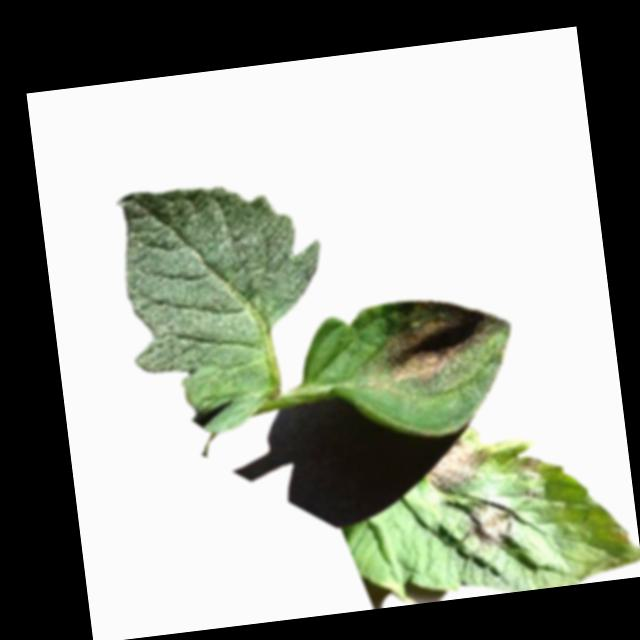Late_blight: (379, 290, 511, 383), (421, 436, 493, 498), (459, 495, 524, 551), (517, 452, 542, 476), (608, 525, 631, 548)
